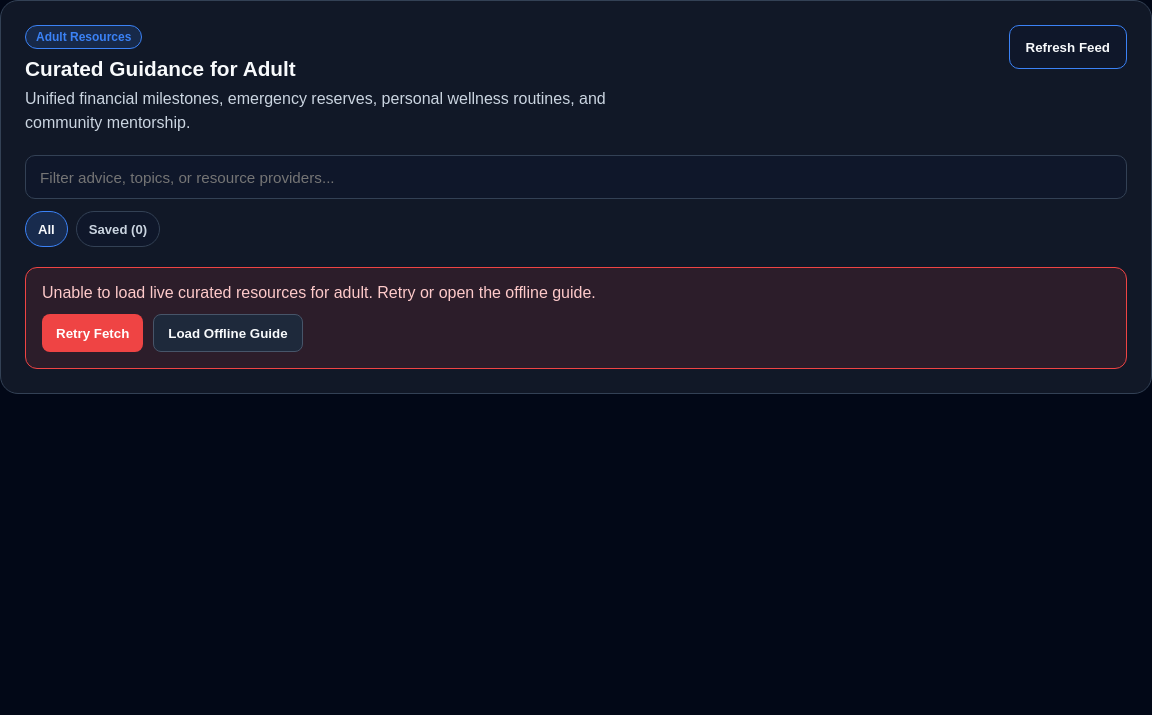
Test: CommunityResourcesComponent › renders an inline error state with retry and offline guide recovery on HTTP failure
The image size is (1152, 715).
expect the message with test id "resources-error" is shown: met, box [25,267,1127,369]
Click the button with test id "resources-fallback-btn" at {"x": 228, "y": 333}, box [153,314,302,352]
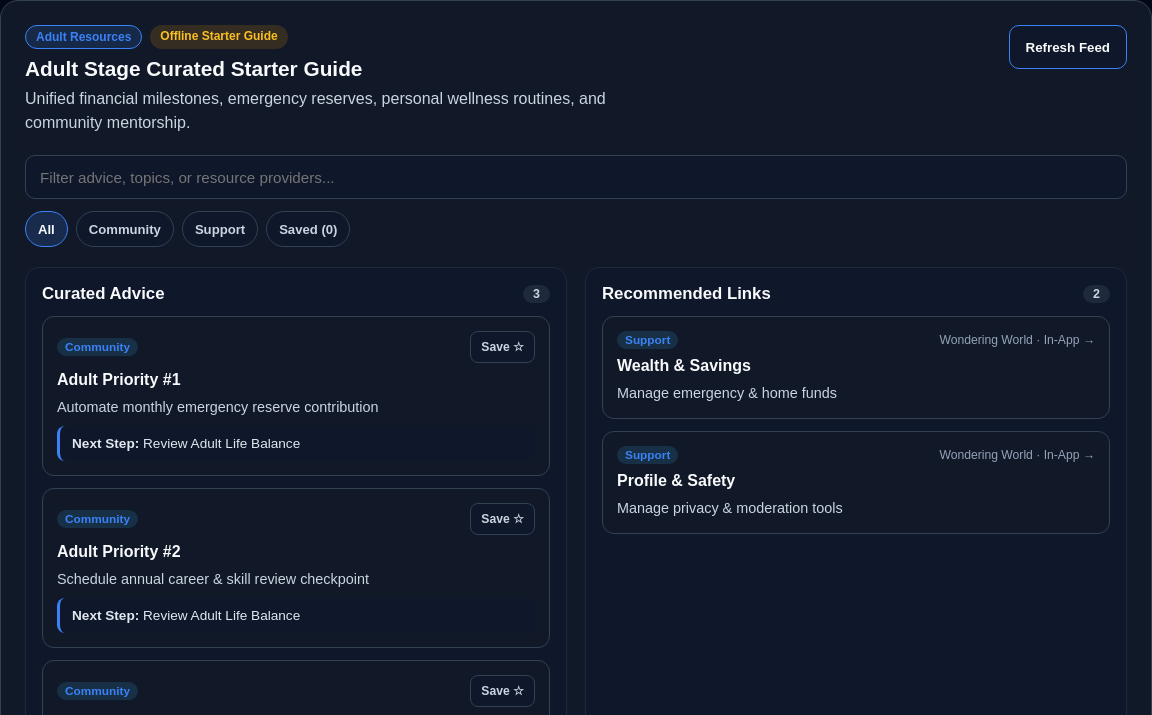
expect the message with test id "resources-error" is gone: met
expect the element with test id "advice-card-adult-fallback-adv-1" is shown: met, box [42,316,550,476]
